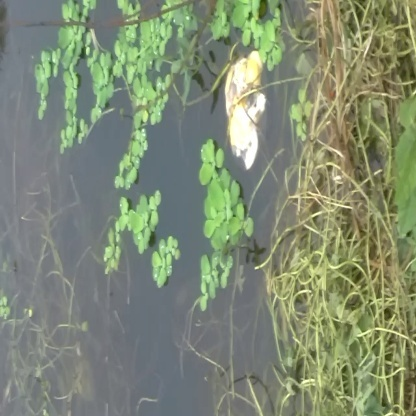leaf: (197, 152, 260, 250)
